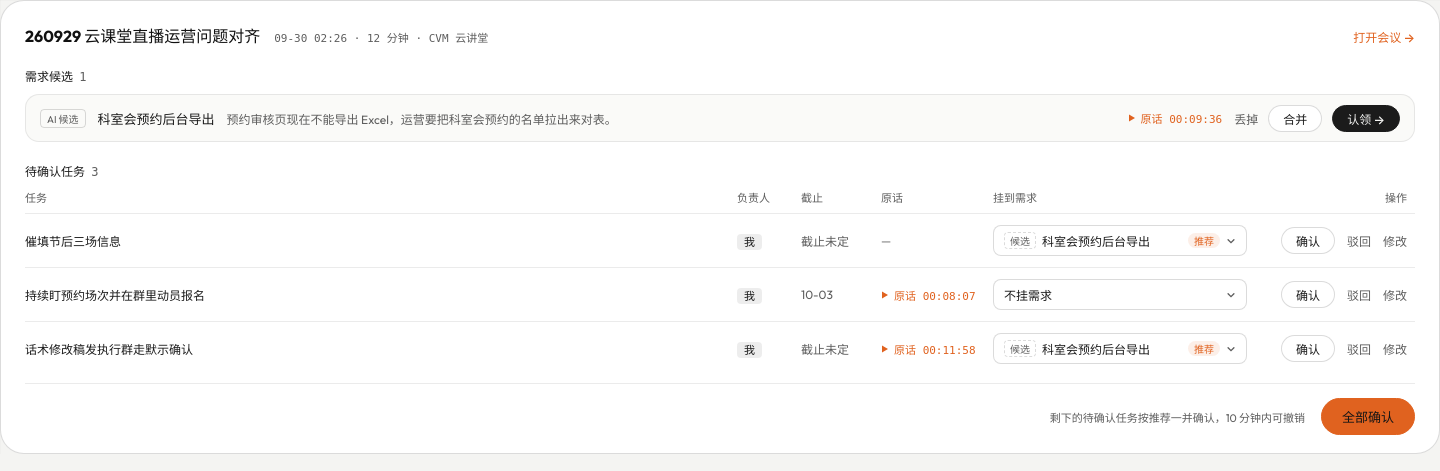
ReviewCardsPanel › 丢掉候选：提示带撤销，撤销调 restoreCandidate
Step 1. Click the button with aria-label "丢掉「" → click(1246, 118), box [1234,110,1258,126]
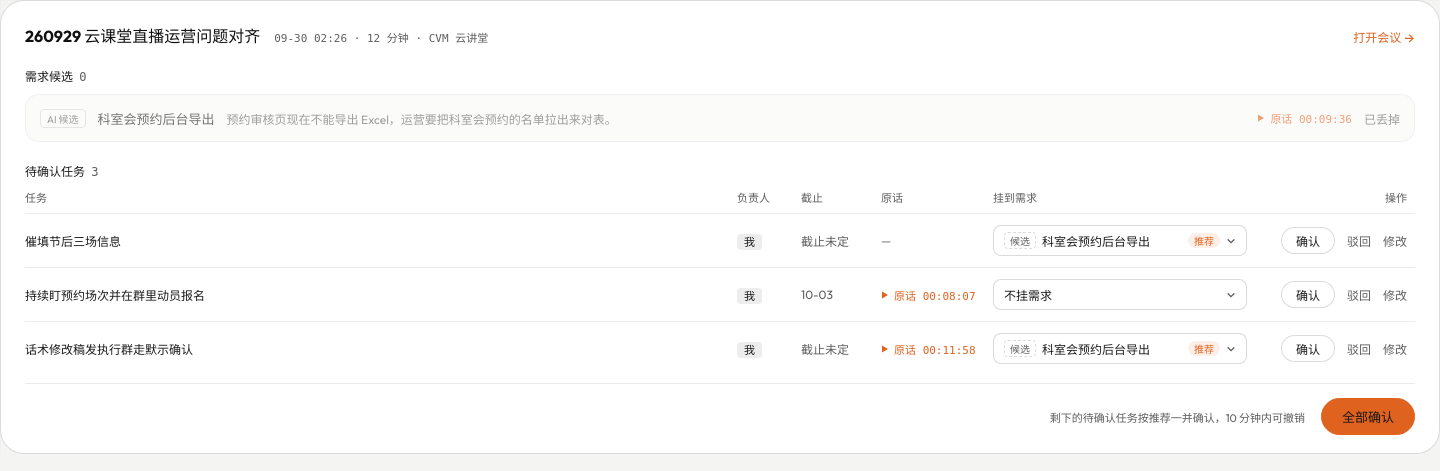
Expected: the text "已丢掉" is shown, [1364,110,1400,126]
